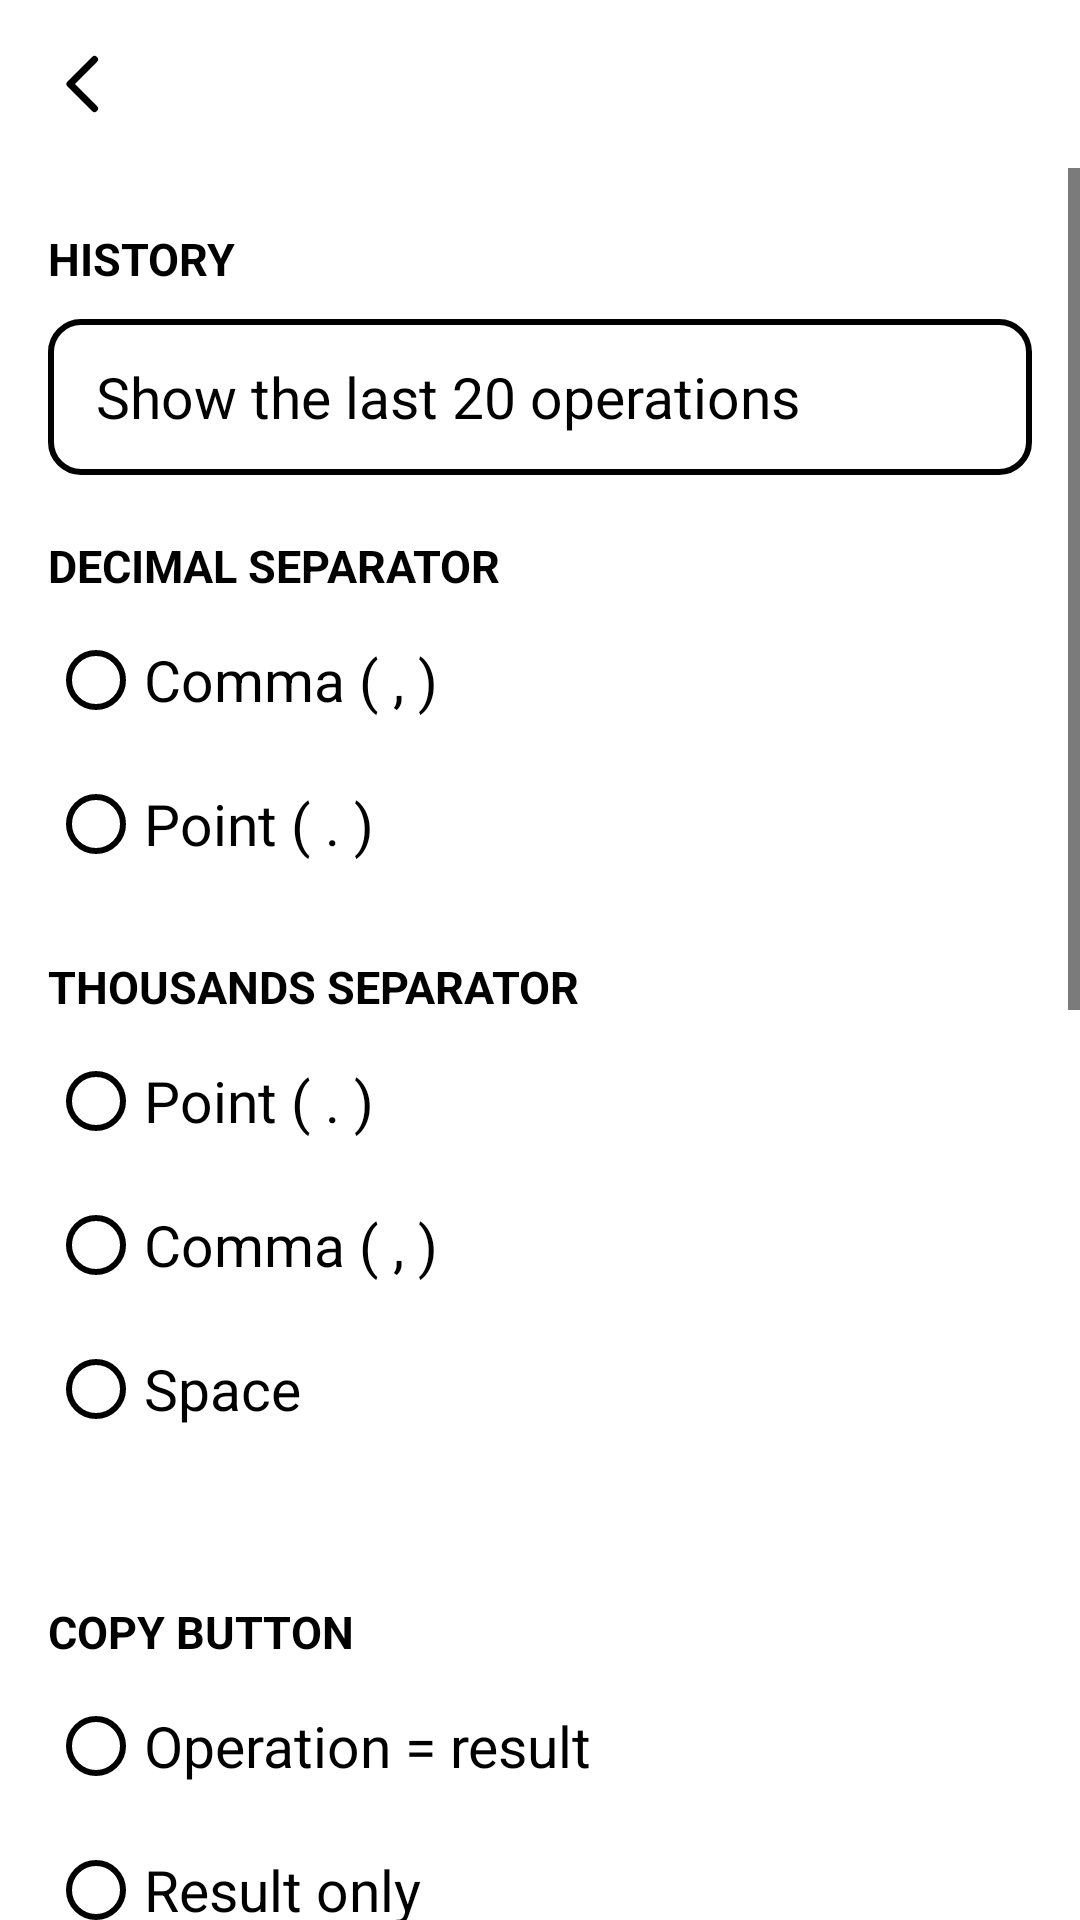

Where to tap for icons on this 1080w x 1920h app screen, as [x,y]:
Back: [82,84]
